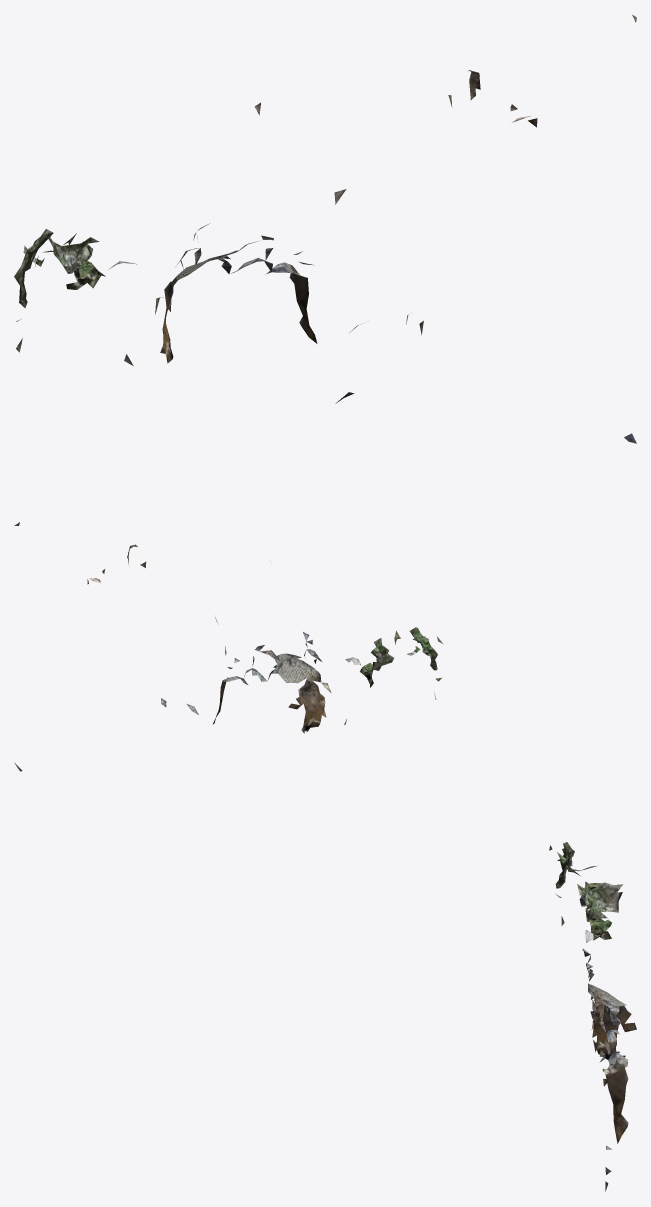
3 renders of one model, top to bottom at view 1: azimuth 30°, elevation 25°; view 2: azimuth 150°, elevation 25°; view 3: azimuth 270°, elevation 25°, orthographic. The views are drawn at different scales.
Size of the model in its own units: 4.9 by 2.16 by 4.76.
Materials: 1 (1 with a texture image).
